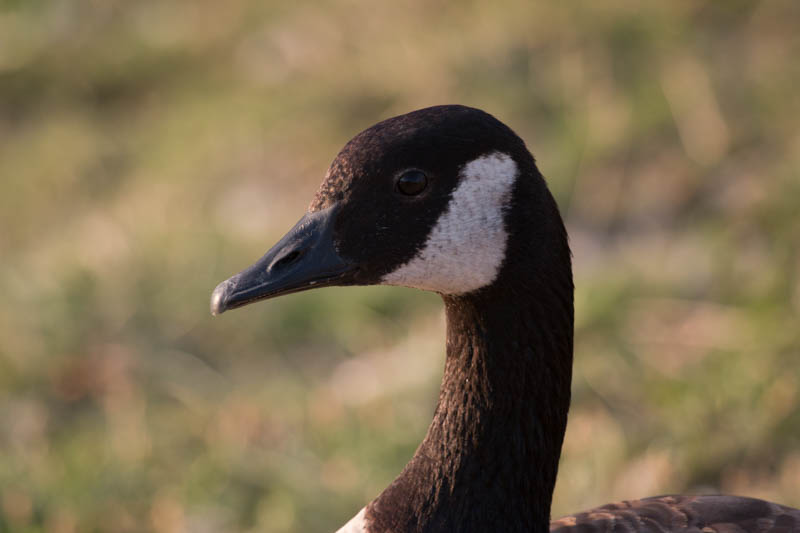goose-head: (209, 104, 554, 315)
